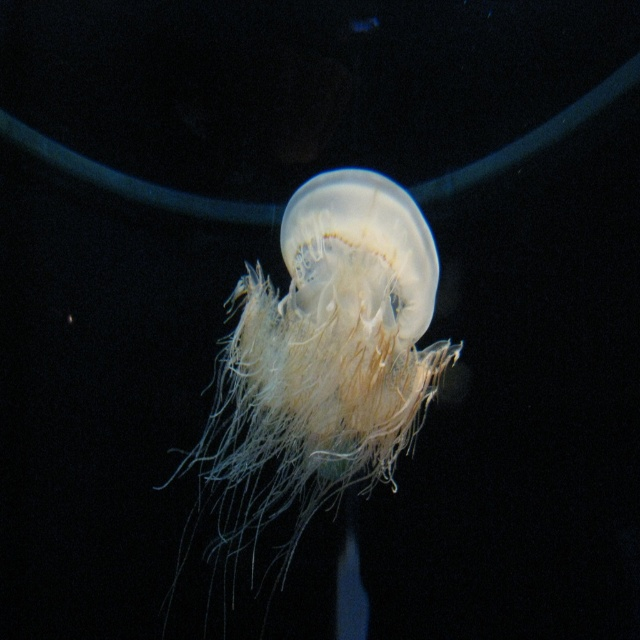Jellyfish: (151, 163, 463, 637)
